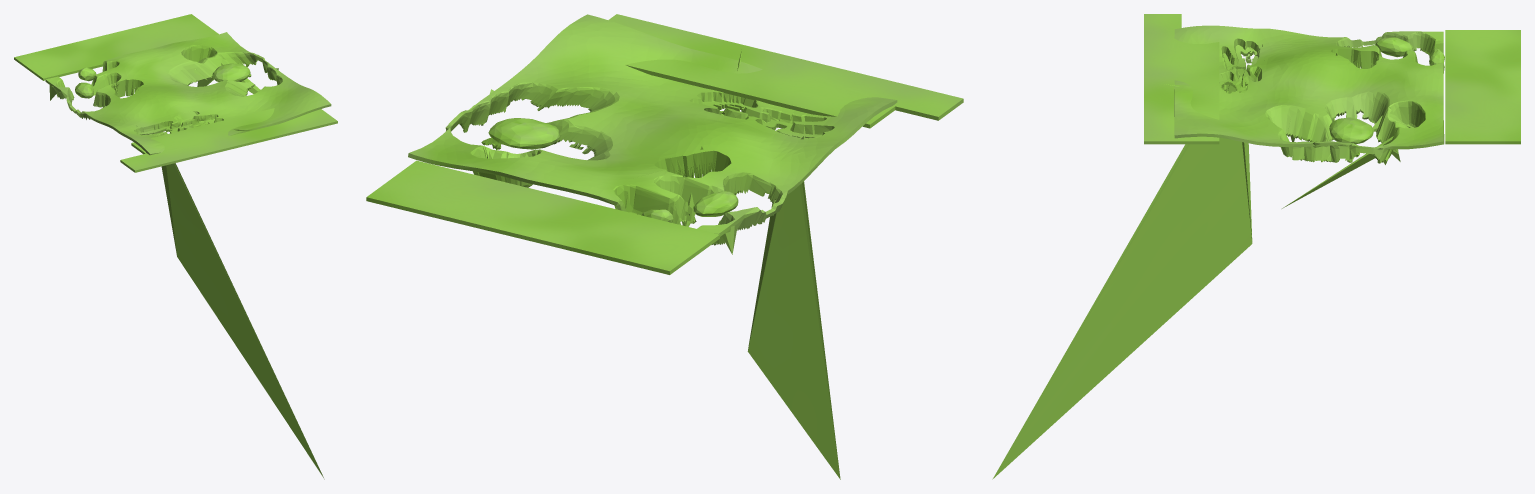
File: meadow_ground.obj
3 views of the same model, side by side, from view 1: azimuth 30°, elevation 25°; view 2: azimuth 150°, elevation 25°; view 3: azimuth 270°, elevation 25° (orthographic). The views are drawn at different scales.
Visible parts, largest first — view 1: Sphere.002; view 2: Sphere.002; view 3: Sphere.002.
Part boxes in pixels (x1,y1,x2,y2): Sphere.002: [14, 14, 337, 479]; Sphere.002: [366, 14, 963, 479]; Sphere.002: [992, 14, 1520, 479].
Bounding box in the file's own units: 159 × 213 × 258.
